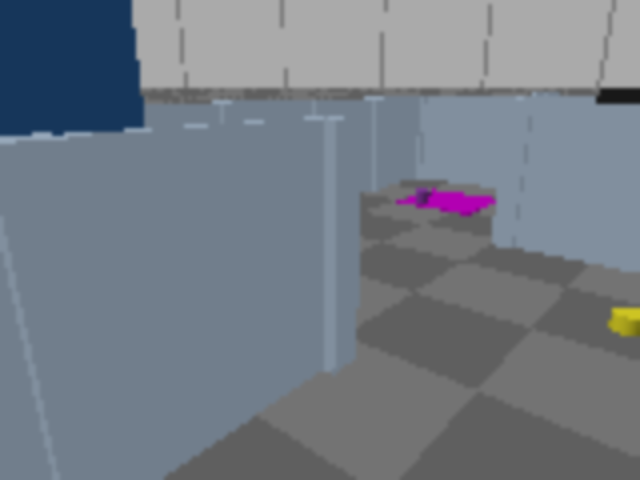goal_zone: (396, 189, 501, 215)
person: (0, 0, 153, 405)
puck: (610, 306, 638, 336)
